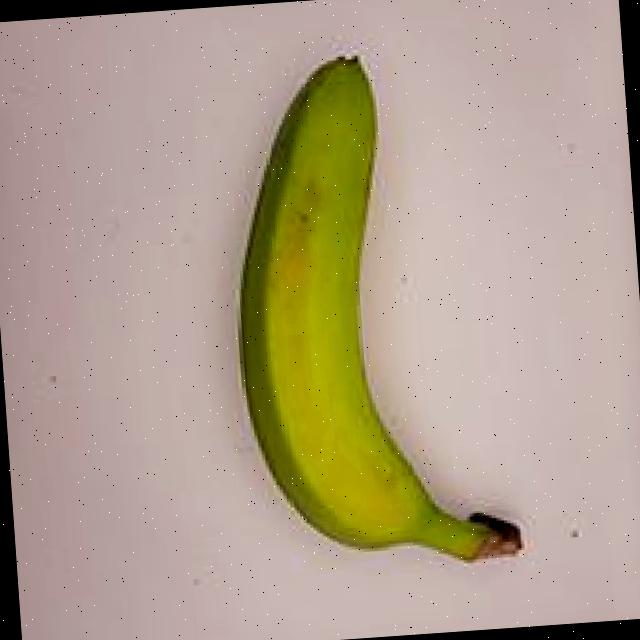Unripe: (192, 36, 552, 614)
